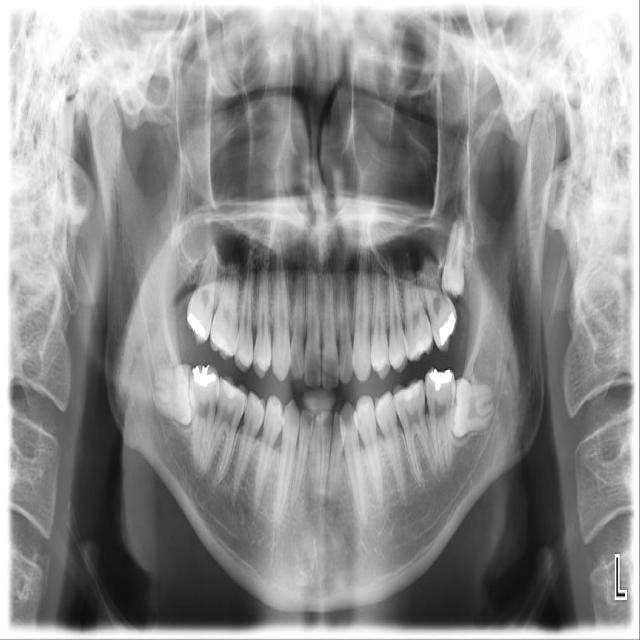Filling: (430, 301, 457, 352), (186, 313, 207, 345), (426, 371, 451, 397), (191, 363, 218, 387), (395, 383, 422, 403)
impacted tooth: (452, 379, 495, 438), (153, 365, 193, 427)
